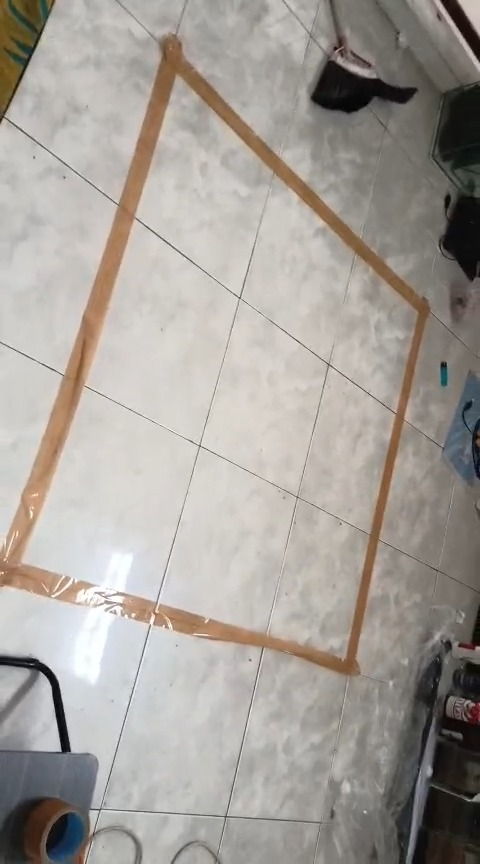floor marking: (0, 35, 427, 673)
